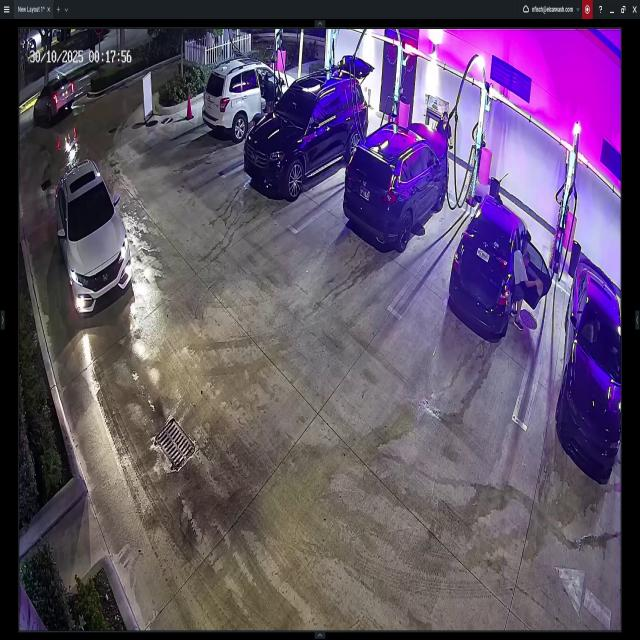Car: (245, 54, 372, 194), (446, 190, 552, 329), (347, 109, 445, 251), (561, 249, 621, 478), (54, 156, 132, 308), (199, 52, 301, 133), (32, 75, 72, 123)
